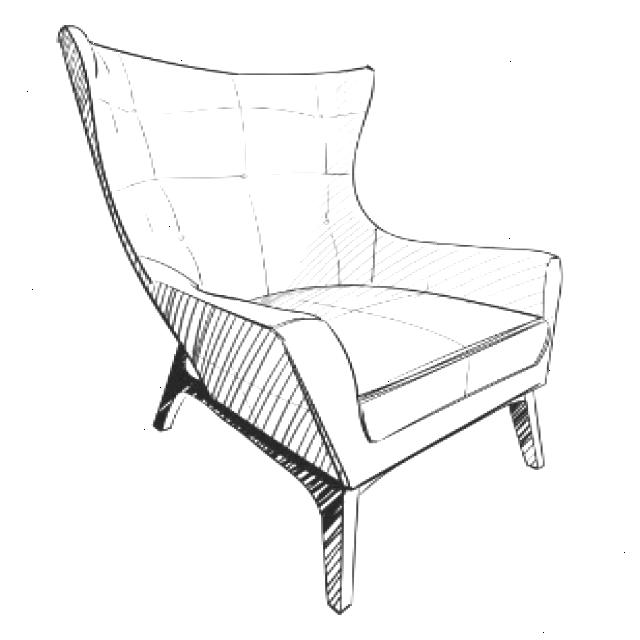Armrest: (127, 254, 381, 490), (370, 224, 564, 324)
Backrest: (58, 26, 376, 301)
Leg_Structure: (149, 341, 548, 620)
Seat: (242, 285, 546, 442)
